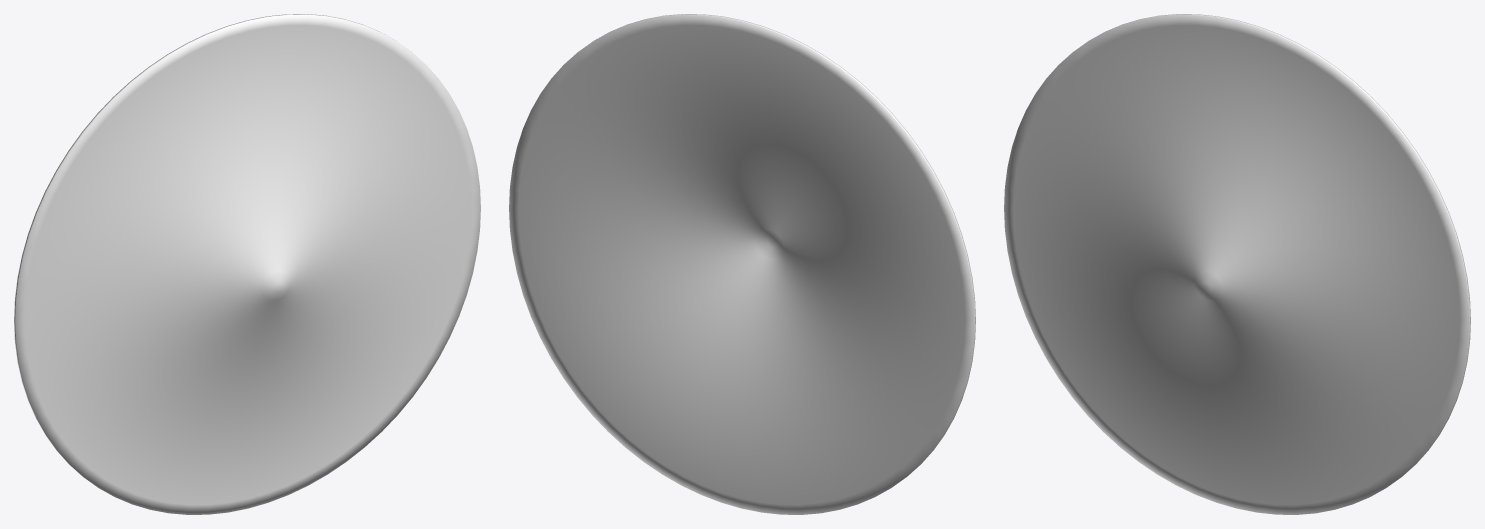
The model's file is GateHorizon.fbx.
The picture shows the model from 3 angles, left to right: view 1: azimuth 30°, elevation 25°; view 2: azimuth 150°, elevation 25°; view 3: azimuth 330°, elevation 25°; orthographic projection.
Visible parts, largest first — view 1: GateHorizon; view 2: GateHorizon; view 3: GateHorizon.
Boxes of the visible parts, left/top/right/bottom form: GateHorizon: left=14, top=14, right=480, bottom=514; GateHorizon: left=509, top=14, right=975, bottom=514; GateHorizon: left=1004, top=14, right=1470, bottom=514.
Size of the model in its own units: 13.9 by 13.9 by 1.66.
1 material, 1 textured.
